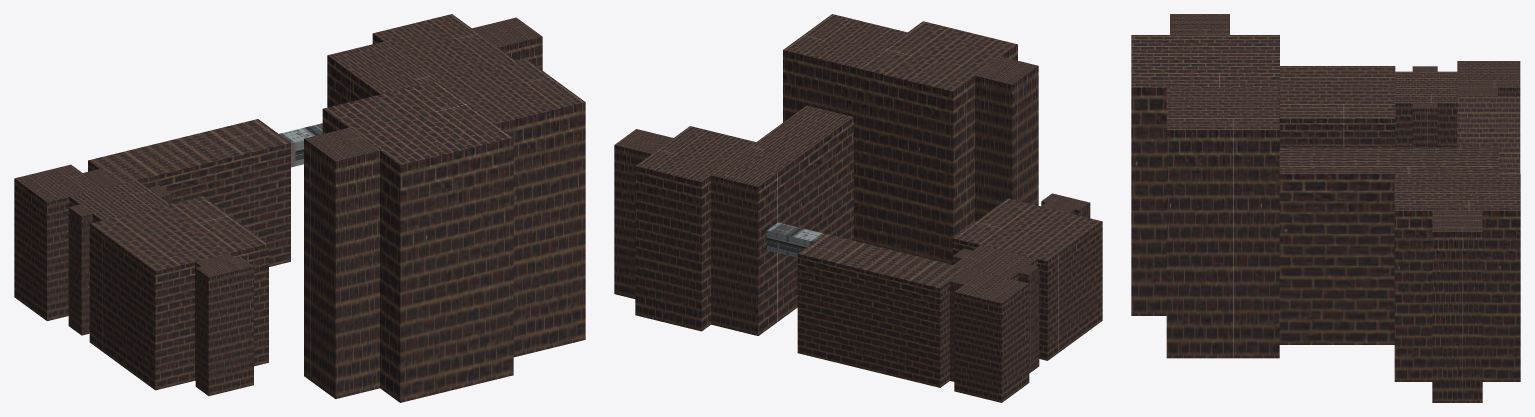
The model's file is hill_center.glb.
3 views of the same model, side by side, from view 1: azimuth 30°, elevation 25°; view 2: azimuth 150°, elevation 25°; view 3: azimuth 270°, elevation 25° (orthographic). The views are drawn at different scales.
Parts seen in each view (by area): view 1: Cube.011, Cube.015, Cube.010, Cube.014, Cube.006, Cube.008, Cube, Cube.012, Cube.013, Cube.005, Cube.003, Cube.001 (+1 smaller); view 2: Cube.011, Cube.013, Cube.006, Cube.012, Cube.010, Cube.014, Cube.008, Cube.015, Cube.001, Cube.003, Cube.005, Cube.009 (+2 smaller); view 3: Cube.015, Cube.013, Cube.012, Cube.011, Cube.001, Cube.010, Cube.006, Cube.003, Cube.008, Cube.014, Cube.004, Cube.007.
Boxes of the visible parts, x1,y1,x2,y2 form: Cube.011: (322,81,513,402); Cube.015: (437,59,585,357); Cube.010: (89,196,268,390); Cube.014: (304,127,380,398); Cube.006: (88,119,290,266); Cube.008: (14,164,103,320); Cube: (195,257,253,395); Cube.012: (372,14,516,80); Cube.013: (327,41,437,107); Cube.005: (68,204,92,335); Cube.003: (69,180,169,222); Cube.001: (471,17,542,70); Cube.011: (858,21,1017,264); Cube.013: (711,105,853,335); Cube.006: (797,233,966,387); Cube.012: (635,126,756,331); Cube.010: (952,198,1102,360); Cube.014: (975,56,1038,221); Cube.008: (954,272,1029,402); Cube.015: (783,14,907,241); Cube.001: (614,129,673,298); Cube.003: (954,245,1037,280); Cube.005: (1019,264,1039,373); Cube.009: (767,222,824,257); Cube.015: (1166,88,1279,358); Cube.013: (1279,147,1498,344); Cube.012: (1394,173,1520,381); Cube.011: (1131,35,1279,315); Cube.001: (1432,210,1482,402); Cube.010: (1280,66,1395,147); Cube.006: (1457,95,1520,173); Cube.003: (1394,71,1457,147); Cube.008: (1457,61,1520,95); Cube.014: (1170,14,1229,35); Cube.004: (1412,103,1437,147); Cube.007: (1456,87,1497,95).
Size of the model in its own units: 51.37 by 24.18 by 37.39.
16 materials, 16 textured.
